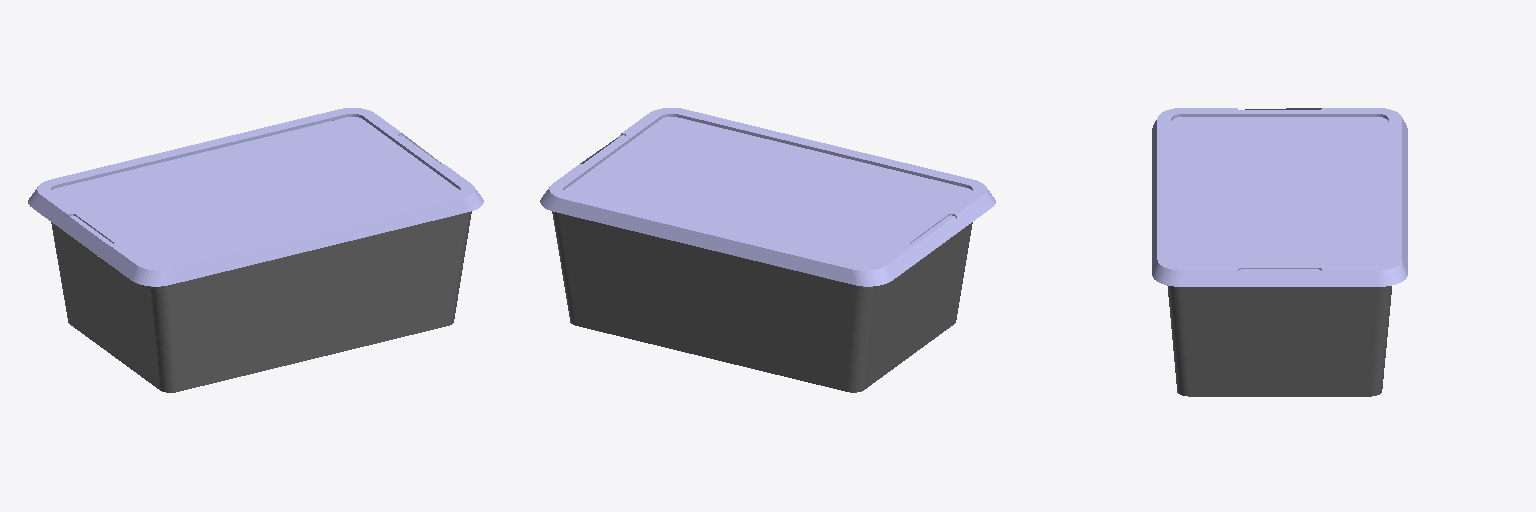
The model's file is box_plastic_storage.obj.
The picture shows the model from 3 angles: view 1: azimuth 30°, elevation 25°; view 2: azimuth 150°, elevation 25°; view 3: azimuth 270°, elevation 25°; orthographic projection.
Parts seen in each view (by area): view 1: Mesh1 Group1 Untitled__3_1 Model, Mesh2 Group2 Untitled__3_1 Model; view 2: Mesh1 Group1 Untitled__3_1 Model, Mesh2 Group2 Untitled__3_1 Model; view 3: Mesh1 Group1 Untitled__3_1 Model, Mesh2 Group2 Untitled__3_1 Model.
Part boxes in pixels (x1,y1,x2,y2): Mesh1 Group1 Untitled__3_1 Model: (28, 108, 483, 286); Mesh2 Group2 Untitled__3_1 Model: (51, 211, 471, 392); Mesh1 Group1 Untitled__3_1 Model: (540, 108, 995, 286); Mesh2 Group2 Untitled__3_1 Model: (552, 211, 972, 392); Mesh1 Group1 Untitled__3_1 Model: (1152, 108, 1407, 286); Mesh2 Group2 Untitled__3_1 Model: (1167, 285, 1391, 396).
Bounding box in the file's own units: 14.51 × 5.31 × 9.2.